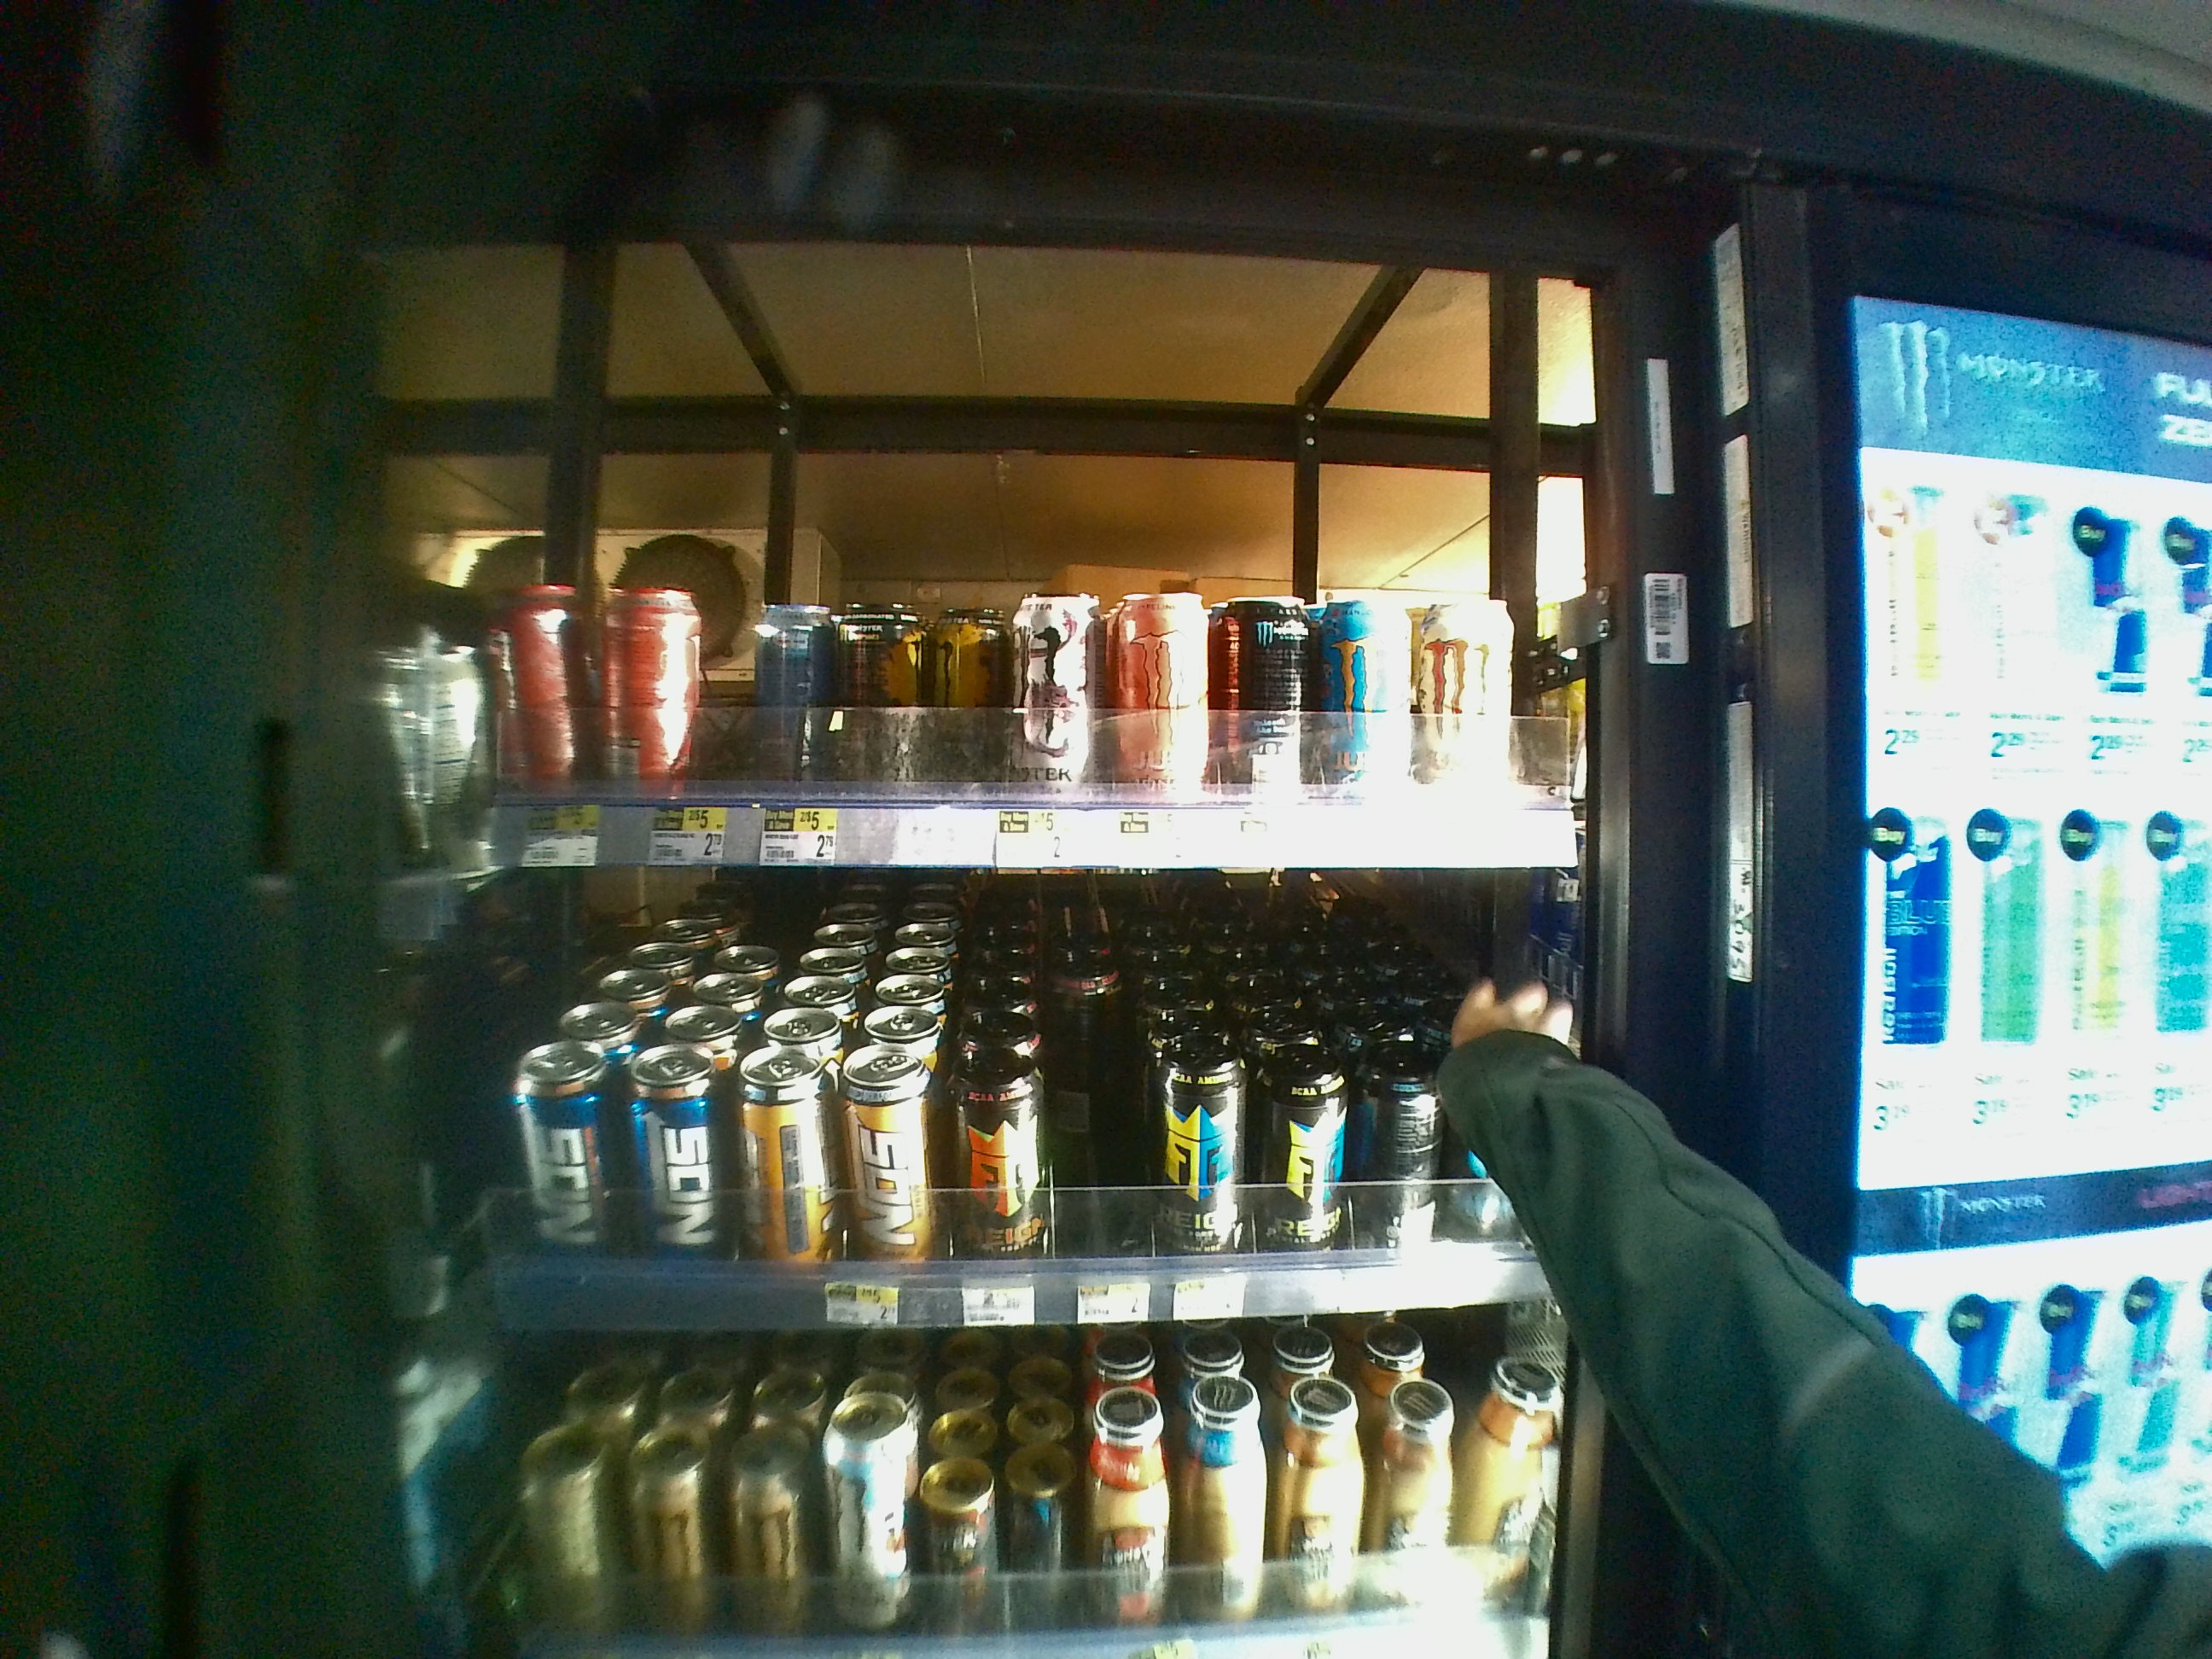shelf: (359, 240, 1604, 871)
